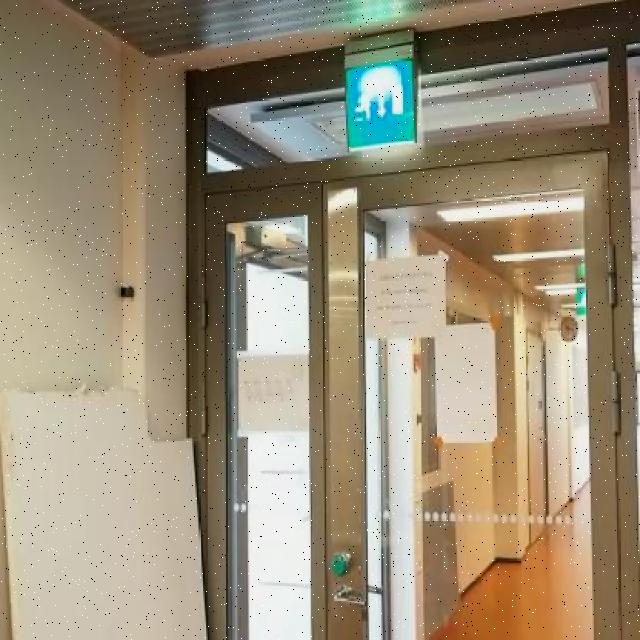emergency_exit: (342, 31, 419, 151)
